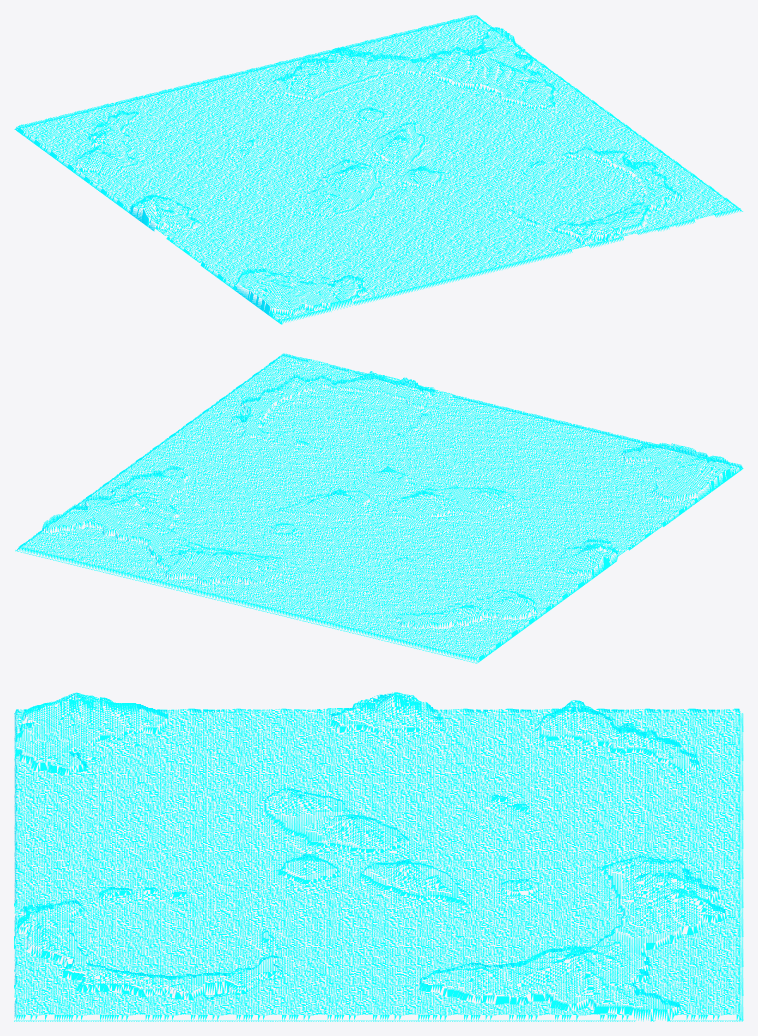
The model's file is 01_solomon_islands.glb.
3 renders of one model, top to bottom at view 1: azimuth 30°, elevation 25°; view 2: azimuth 150°, elevation 25°; view 3: azimuth 270°, elevation 25°, orthographic. The views are drawn at different scales.
Parts seen in each view (by area): view 1: Terrain; view 2: Terrain; view 3: Terrain.
Boxes of the visible parts, x1,y1,x2,y2 form: Terrain: [14, 15, 742, 324]; Terrain: [15, 353, 743, 663]; Terrain: [14, 692, 743, 1021].
Size of the model in its own units: 1398 by 68.54 by 1398.
